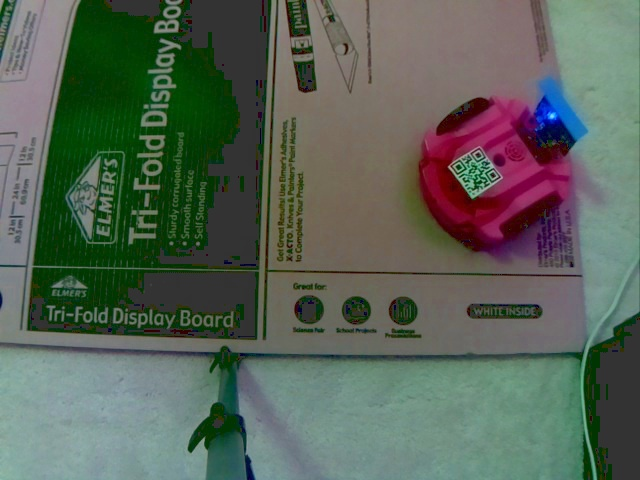board: (524, 73, 592, 158)
chassis: (415, 75, 587, 251)
